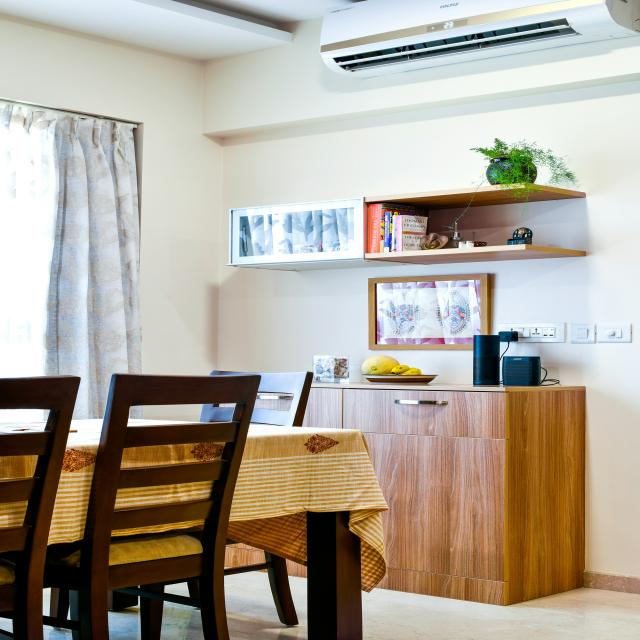floor: (361, 587, 640, 640), (224, 571, 308, 640), (160, 600, 205, 640), (108, 596, 141, 640), (43, 624, 73, 640), (164, 582, 190, 597), (43, 587, 51, 617), (0, 617, 13, 634), (0, 633, 13, 640), (67, 604, 71, 620), (224, 567, 232, 569), (138, 585, 140, 588)
